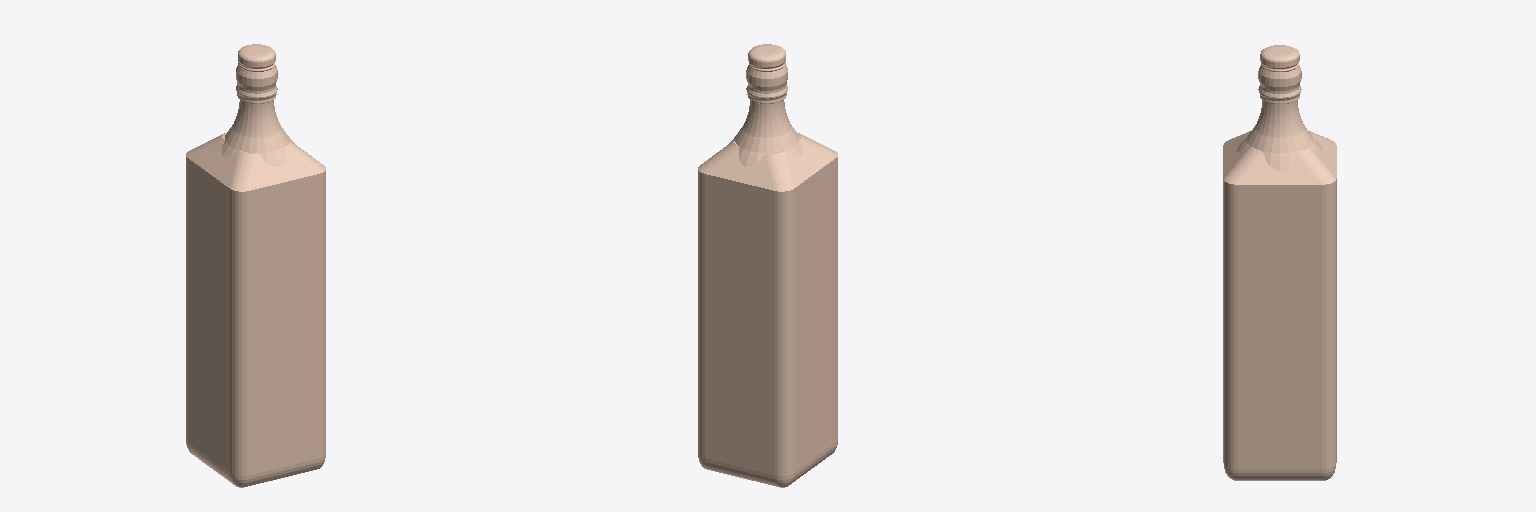
The model's file is JWRed.obj.
3 renders of one model, left to right at view 1: azimuth 30°, elevation 25°; view 2: azimuth 150°, elevation 25°; view 3: azimuth 270°, elevation 25°, orthographic.
Parts seen in each view (by area): view 1: Mesh19 Group3 Group1 Model, Mesh1 Group2 Group1 Model; view 2: Mesh1 Group2 Group1 Model, Mesh19 Group3 Group1 Model; view 3: Mesh1 Group2 Group1 Model, Mesh19 Group3 Group1 Model.
Part boxes in pixels (x1,y1,x2,y2): Mesh19 Group3 Group1 Model: (209, 48, 325, 487); Mesh1 Group2 Group1 Model: (186, 44, 270, 467); Mesh1 Group2 Group1 Model: (698, 48, 814, 487); Mesh19 Group3 Group1 Model: (753, 44, 837, 467); Mesh1 Group2 Group1 Model: (1280, 45, 1336, 480); Mesh19 Group3 Group1 Model: (1223, 45, 1279, 480).
Bounding box in the file's own units: 0.0563 × 0.2342 × 0.0583.